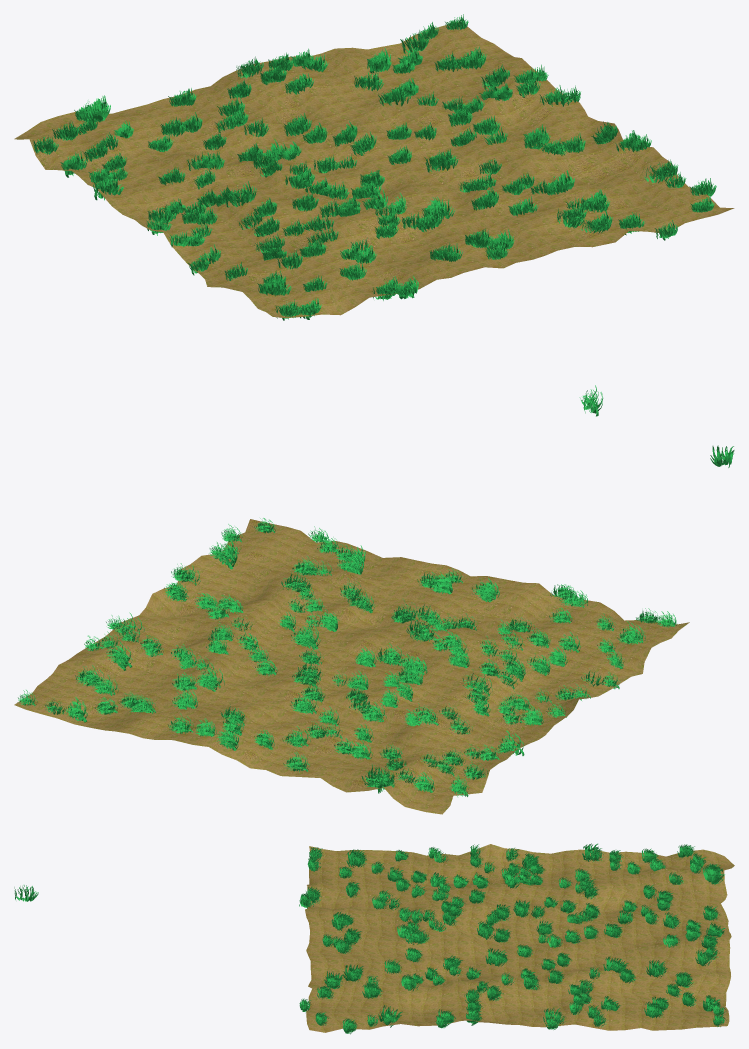
The model's file is Lawn.fbx.
3 renders of one model, top to bottom at view 1: azimuth 30°, elevation 25°; view 2: azimuth 150°, elevation 25°; view 3: azimuth 270°, elevation 25°, orthographic. The views are drawn at different scales.
Visible parts, largest first — view 1: Plane; view 2: Plane; view 3: Plane.
Part boxes in pixels (x1,y1,x2,y2): Plane: [14, 22, 734, 317]; Plane: [14, 519, 689, 814]; Plane: [305, 844, 734, 1032].
Bounding box in the file's own units: 869 × 71.74 × 1422.
Materials: 2 (1 with a texture image).
